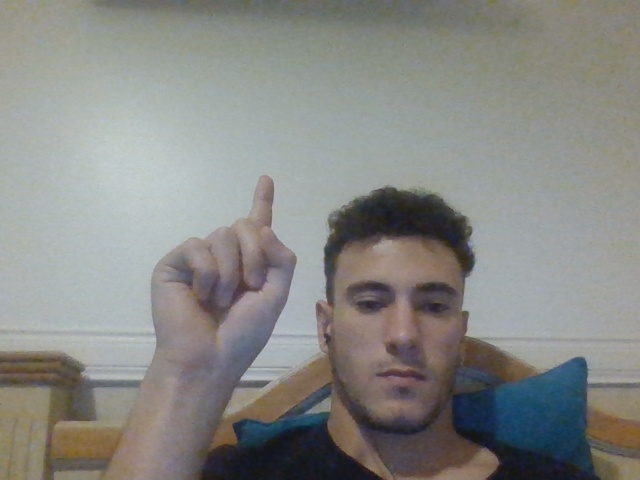Up: (149, 175, 298, 369)
